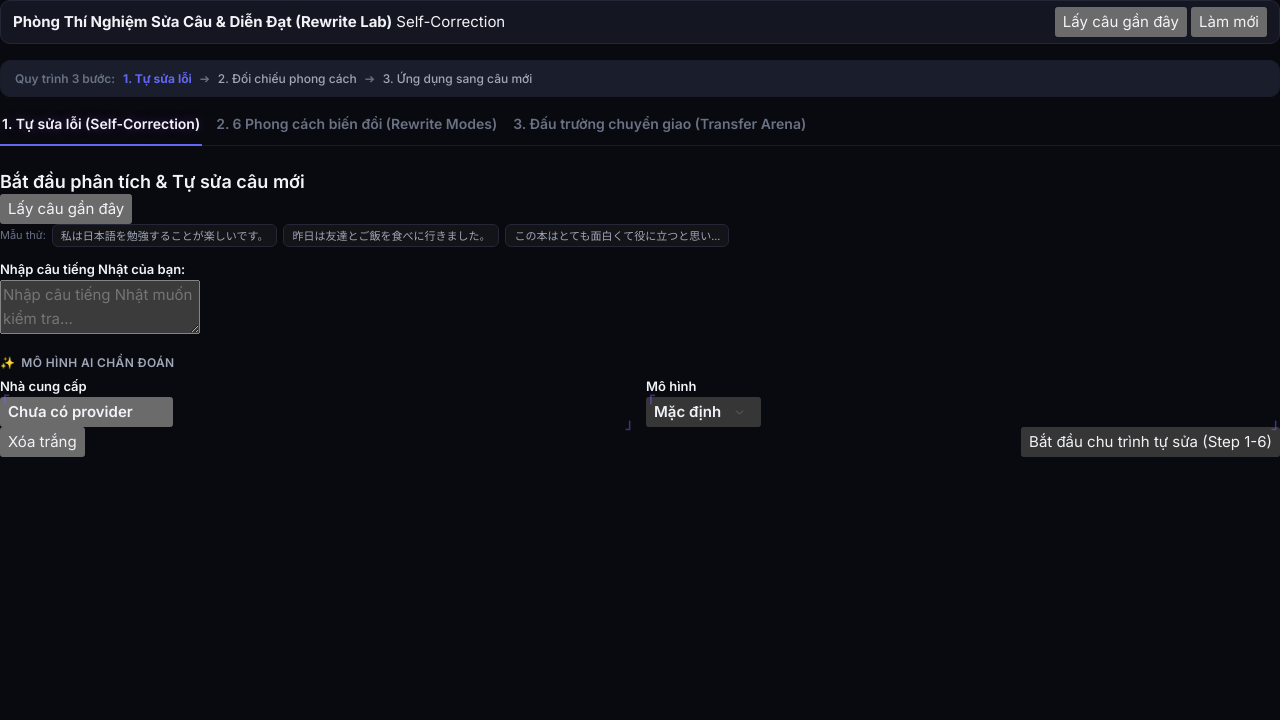
Scenario: RewriteLabPage (Phase 19) › opens recent snippets modal and imports a snippet
Click the button with aria-label "Lấy câu từ bài viết gần đây". click: point(1121, 22)
box: 1055,7 -> 1187,37
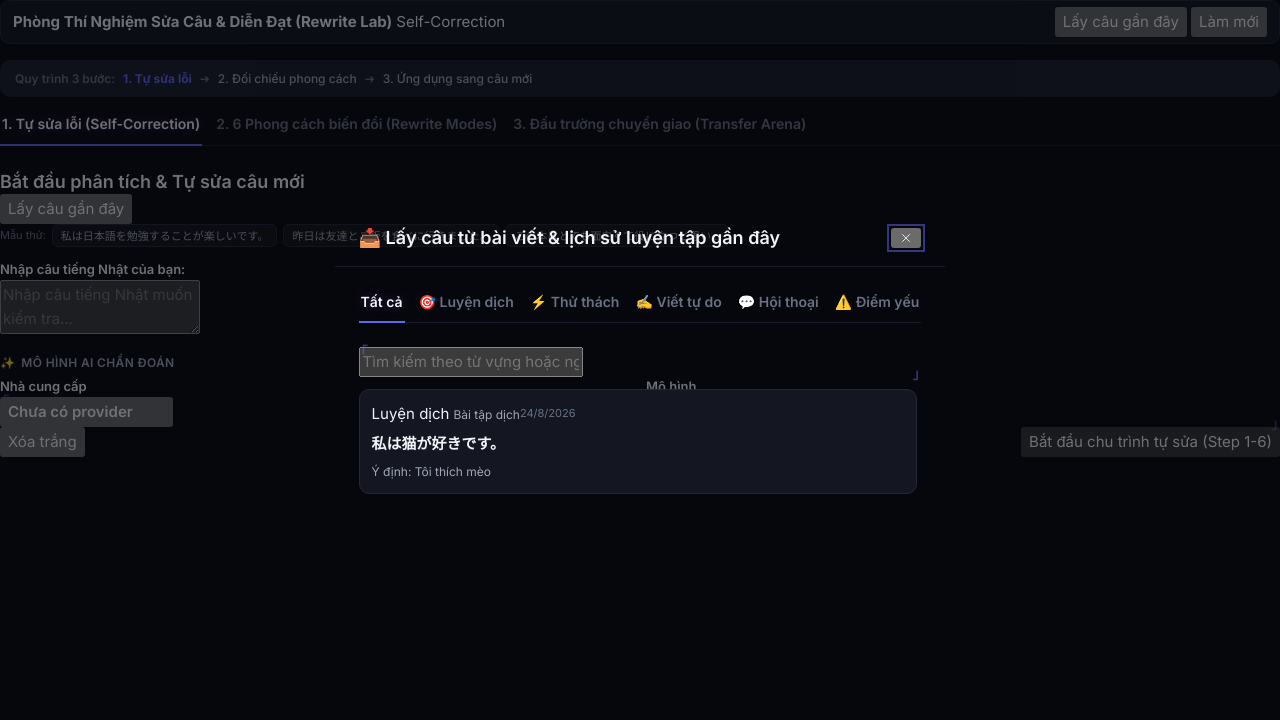
expect the text "私は猫が好きです。" is shown: met, box 372,432 -> 505,456
Click the button with aria-label "Chọn câu: 私は猫が好きです。". click: point(410, 414)
box: 359,389 -> 918,494
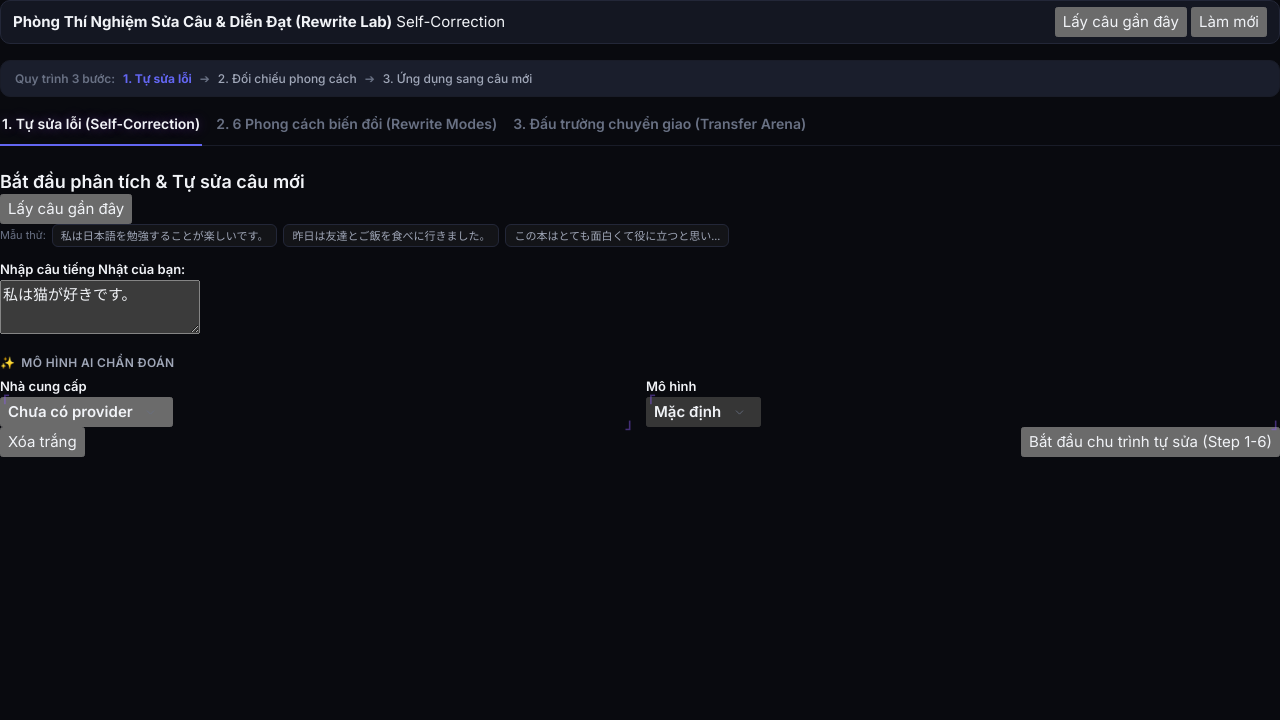
expect the text box showing "私は猫が好きです。" is shown: met, box 0,280 -> 200,334
